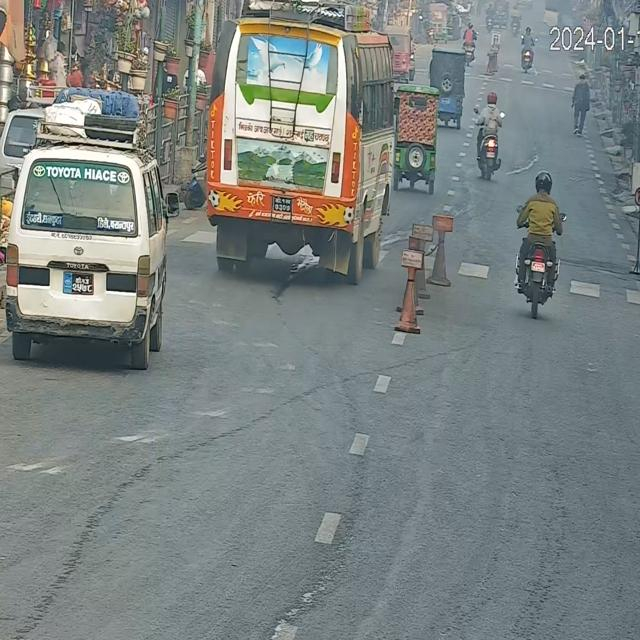license_plate: (506, 202, 576, 325)
